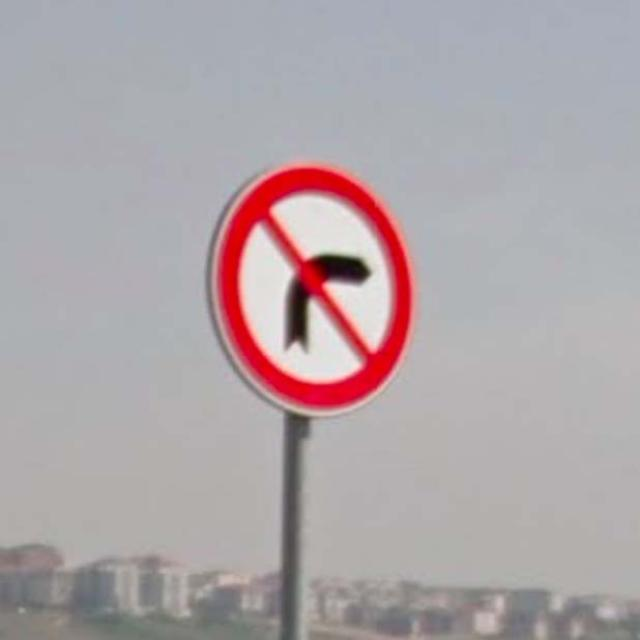sagadonulmez: (210, 165, 413, 414)
